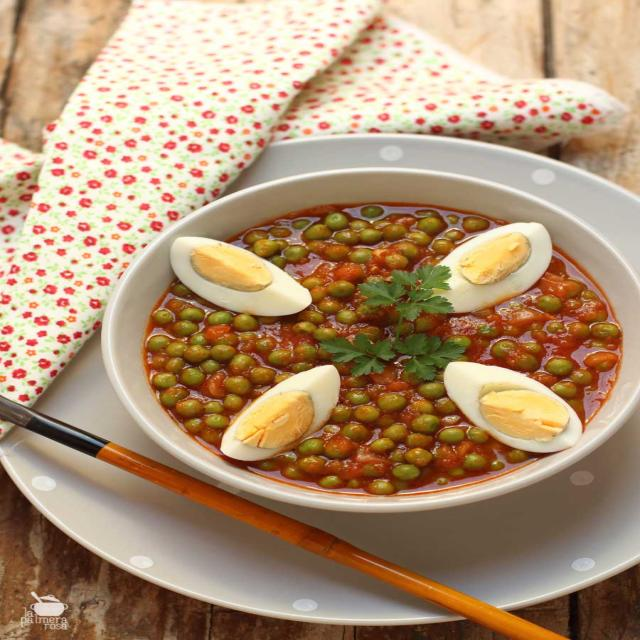arvejas: (141, 204, 613, 497)
huevos: (428, 356, 595, 460), (406, 219, 570, 319), (212, 361, 351, 473), (154, 228, 316, 324)
